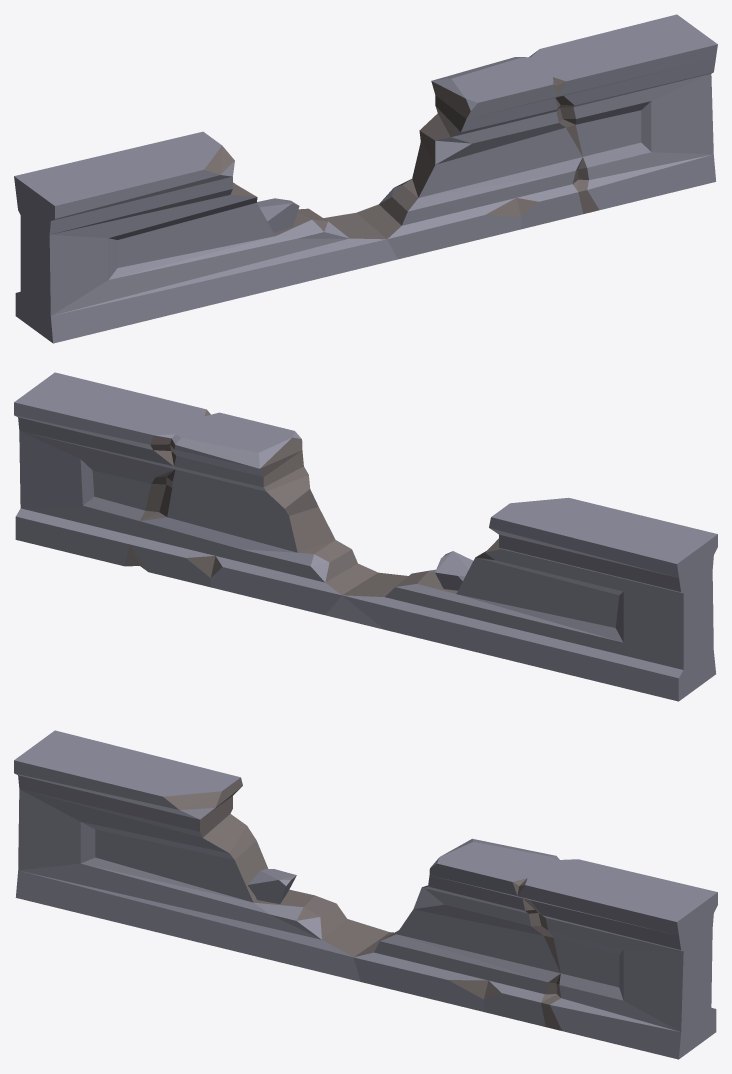
The model's file is Broken_wall_00.FBX.
3 renders of one model, top to bottom at view 1: azimuth 30°, elevation 25°; view 2: azimuth 150°, elevation 25°; view 3: azimuth 330°, elevation 25°, orthographic.
Parts seen in each view (by area): view 1: Broken_wall_00; view 2: Broken_wall_00; view 3: Broken_wall_00.
Boxes of the visible parts, <box> form: Broken_wall_00: <box>14,14,717,343</box>; Broken_wall_00: <box>14,372,717,701</box>; Broken_wall_00: <box>14,730,717,1059</box>.
Size of the model in its own units: 102 by 20.44 by 10.94.
